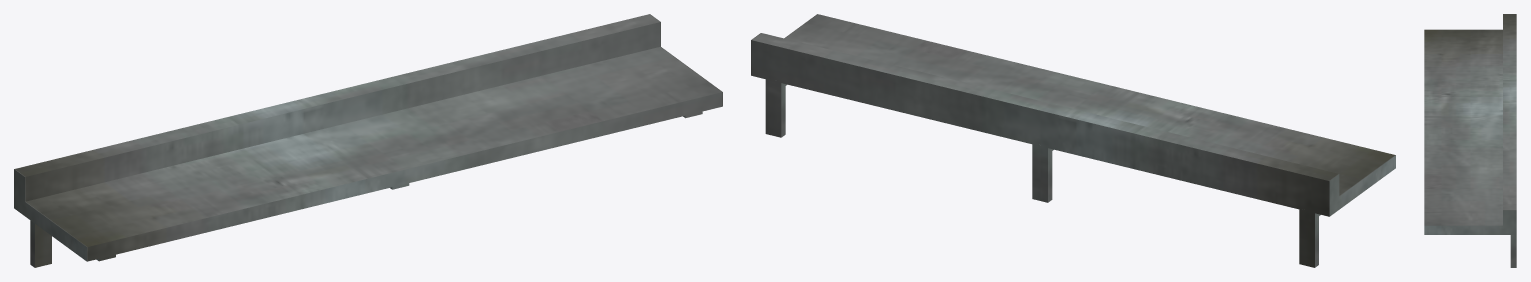
Rendered from MetalShelfSmall.glb.
The picture shows the model from 3 angles, left to right: view 1: azimuth 30°, elevation 25°; view 2: azimuth 150°, elevation 25°; view 3: azimuth 270°, elevation 25°; orthographic projection. The views are drawn at different scales.
Visible parts, largest first — view 1: Rack_01; view 2: Rack_01; view 3: Rack_01.
Boxes of the visible parts, x1=… form: Rack_01: x1=14, y1=14, x2=722, y2=267; Rack_01: x1=751, y1=14, x2=1395, y2=267; Rack_01: x1=1424, y1=14, x2=1516, y2=267.
Bounding box in the file's own units: 2.38 × 0.3547 × 0.4717.
Materials: 1 (1 with a texture image).
